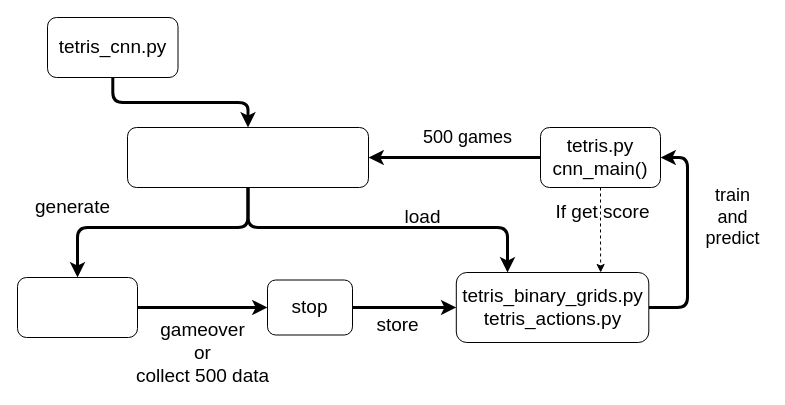
The diagram is 785 pixels wide and 405 high, and some of its shapes have lost their labels. The shapes that lost their labels are listed below. From the top down, each one's centre as x and y in pixels, then its label:
the point at 247,157: ask generate data or train model and predict
the point at 77,307: tetris.py main()
